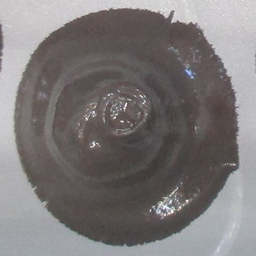perfect: (12, 5, 248, 247)
